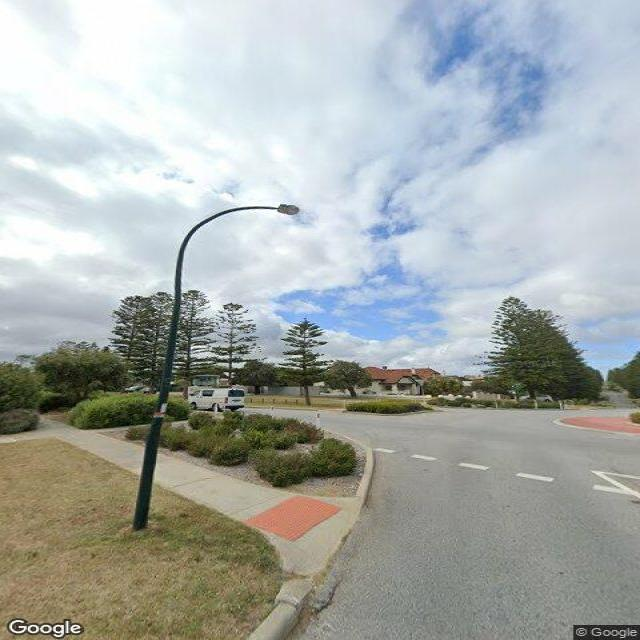steel-pole: (132, 247, 183, 532)
streetlight: (177, 204, 301, 258)
